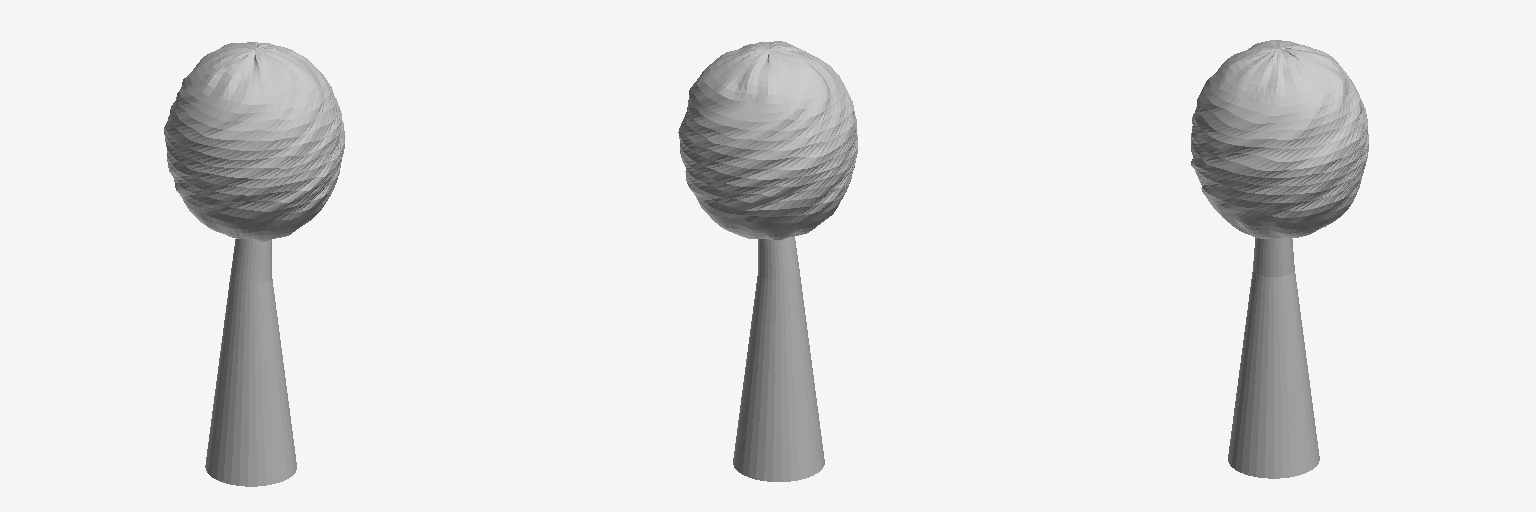
File: TreeA.obj
3 views of the same model, side by side, from view 1: azimuth 30°, elevation 25°; view 2: azimuth 150°, elevation 25°; view 3: azimuth 270°, elevation 25° (orthographic).
Parts seen in each view (by area): view 1: Sphere.001; view 2: Sphere.001; view 3: Sphere.001.
Boxes of the visible parts, box(x1,y1,x2,y2) form: Sphere.001: box(164, 42, 344, 486); Sphere.001: box(678, 41, 857, 481); Sphere.001: box(1191, 40, 1368, 478).
Bounding box in the file's own units: 0.6073 × 1.54 × 0.6029.